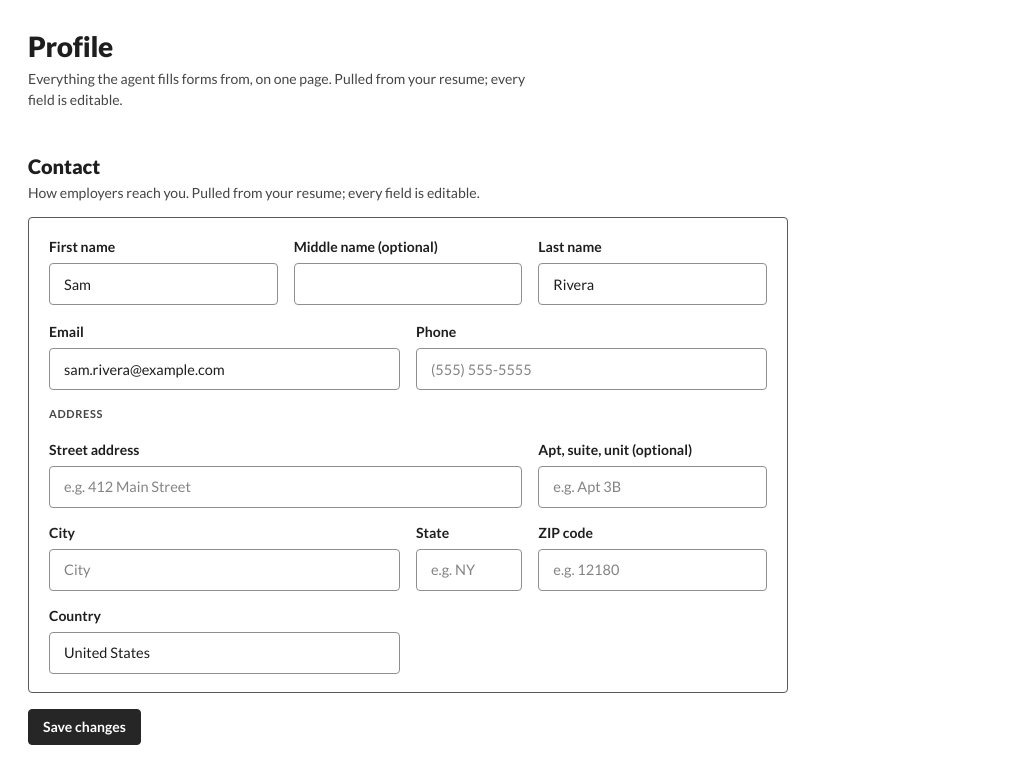
Test: Profile page name fields › edits first, middle, and last name separately and requires first and last
Expected: the field labelled "Last name" holds "Rivera", [538,263,767,305]
Clear the field labelled "First name" at (163, 284), box [49,263,278,305]
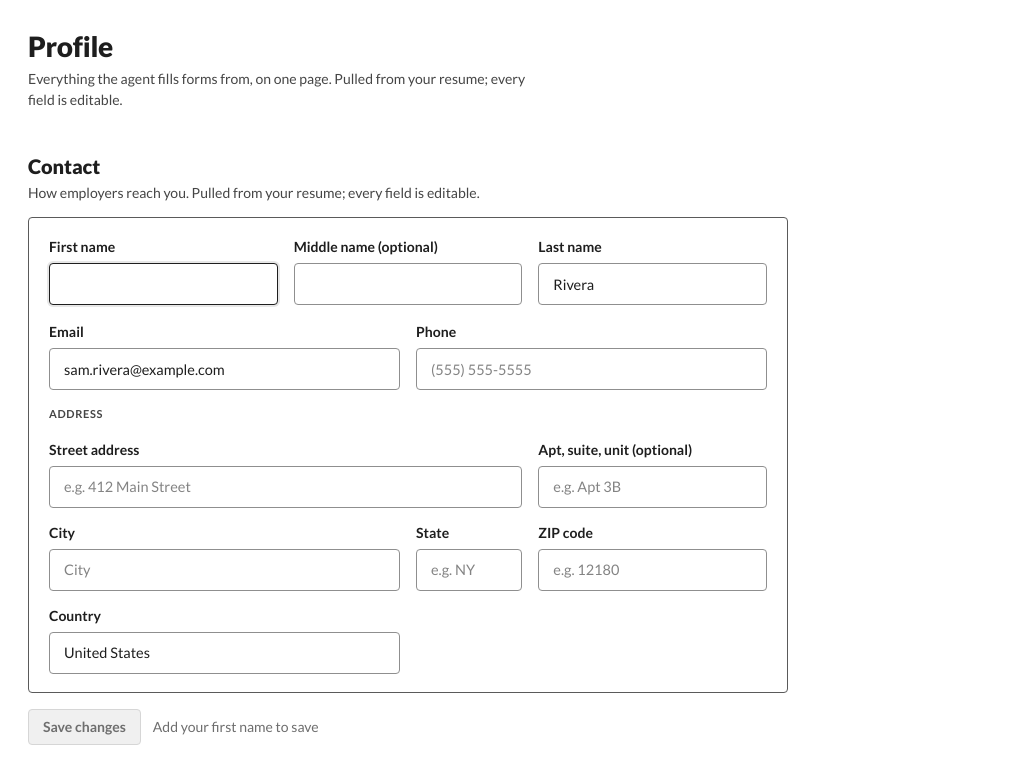
Now the button "Save changes" is disabled, box [28,709,141,745]
Now the text "Add your first name to save" is shown, box [153,716,319,737]
Type "Samantha" into the field labelled "First name" at (163, 284), box [49,263,278,305]
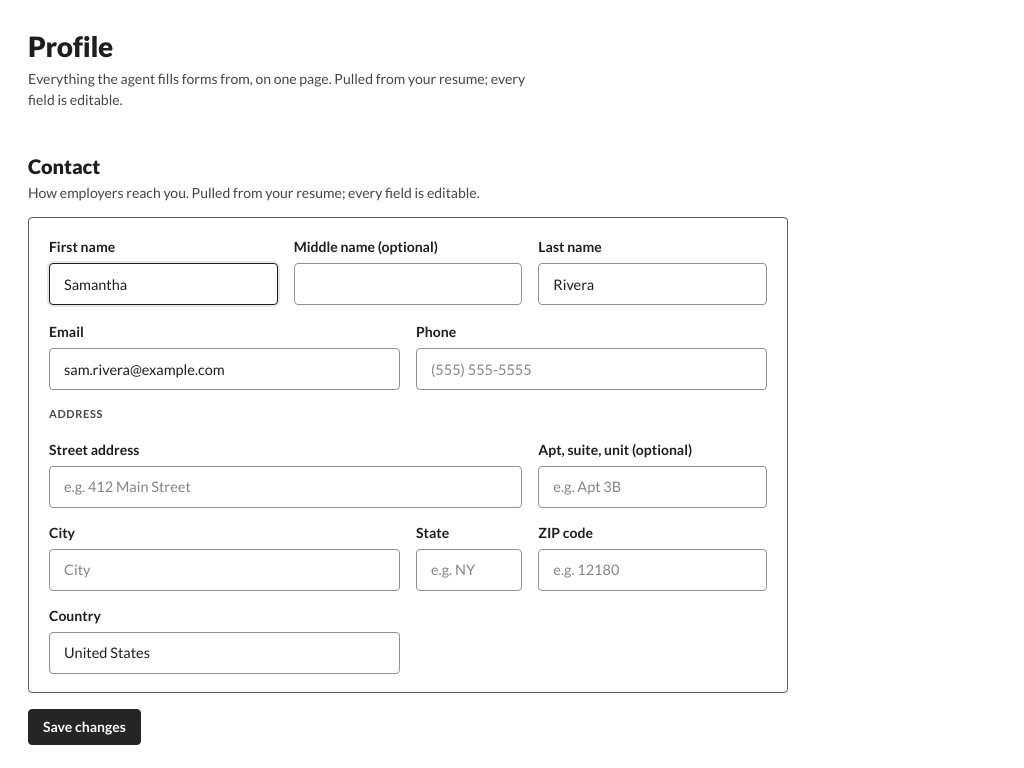
Type "Ann" into the field labelled "Middle name (optional)" at (408, 284), box [294,263,522,305]
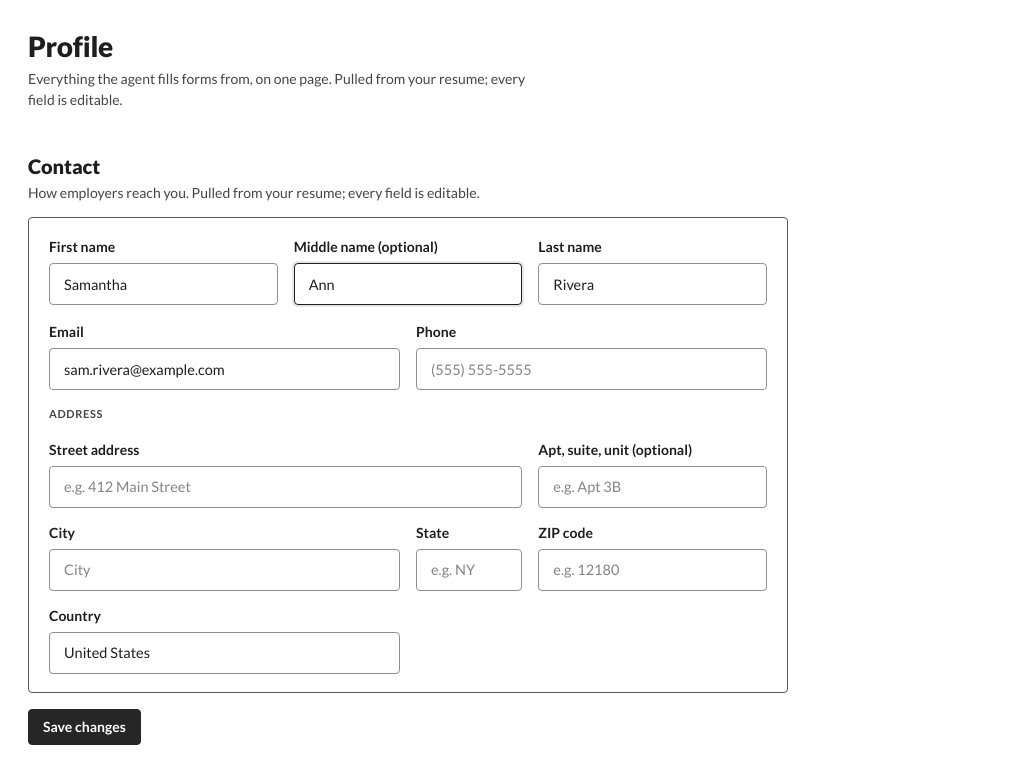
Click the button "Save changes" at (84, 727), box [28,709,141,745]
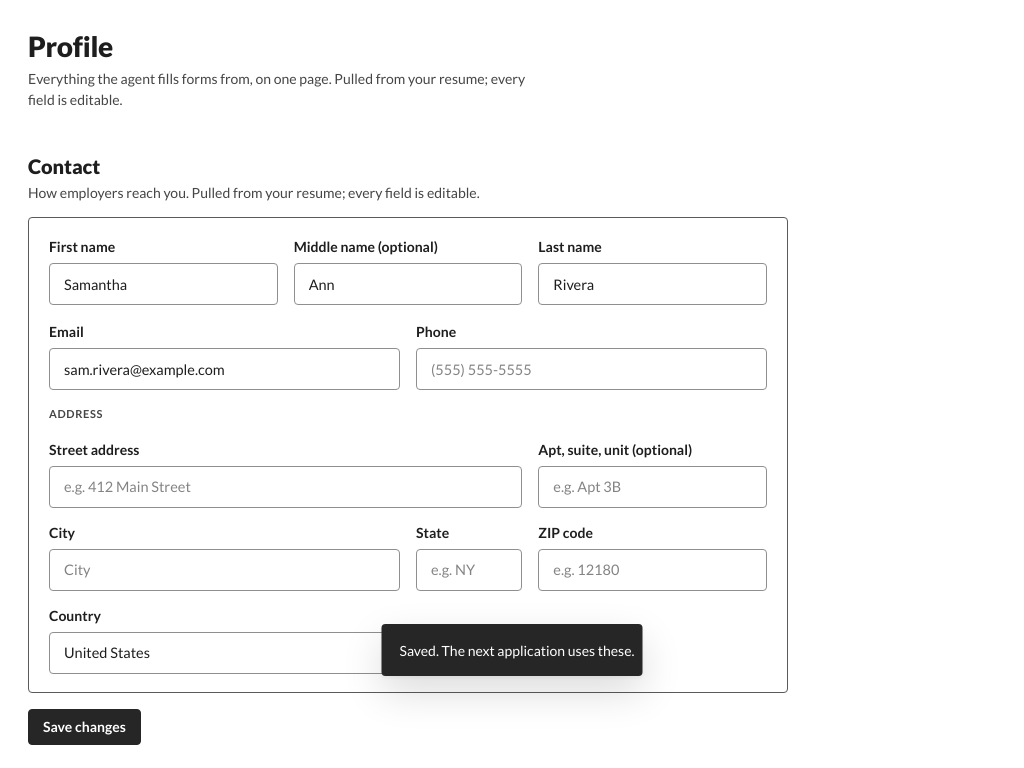
Now the text "Saved. The next application uses these." is shown, box [400,640,634,660]
